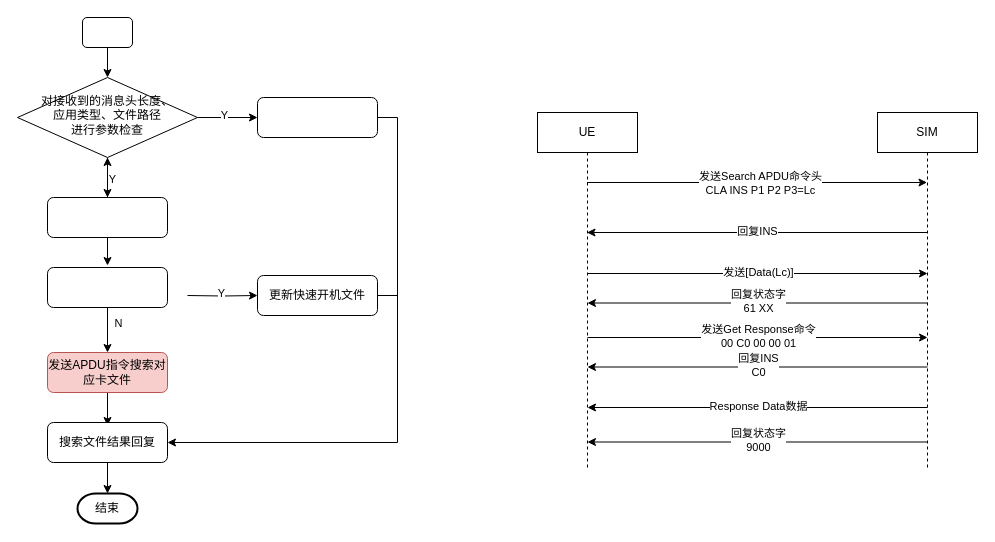
Image size: 995x542. Some labels were removed from this diagram. The shapes that lost their labels are listed below. From the top down, each one's box as (x1, y1, x2, y2) in pixels, then its label:
(82, 16, 132, 48): 开始
(256, 96, 378, 138): 打印错误信息，返回VOS_ERR
(46, 196, 168, 238): 转换文件格式
(46, 266, 168, 308): 选择卡文件
